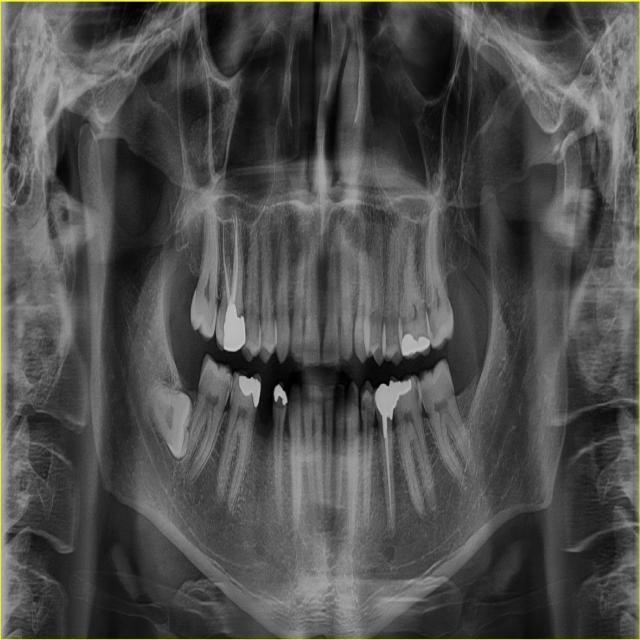71: (382, 416, 388, 439)
74: (220, 223, 234, 309), (229, 208, 240, 304), (384, 428, 393, 518), (230, 216, 239, 304)
NucleOSS Implant: (231, 368, 270, 407), (221, 300, 247, 354), (394, 325, 431, 361), (372, 382, 395, 421), (387, 378, 414, 410), (272, 384, 288, 408)
Sterngold Implant: (428, 315, 436, 337), (413, 385, 420, 403), (245, 325, 249, 343), (230, 382, 235, 392), (225, 385, 230, 394)
